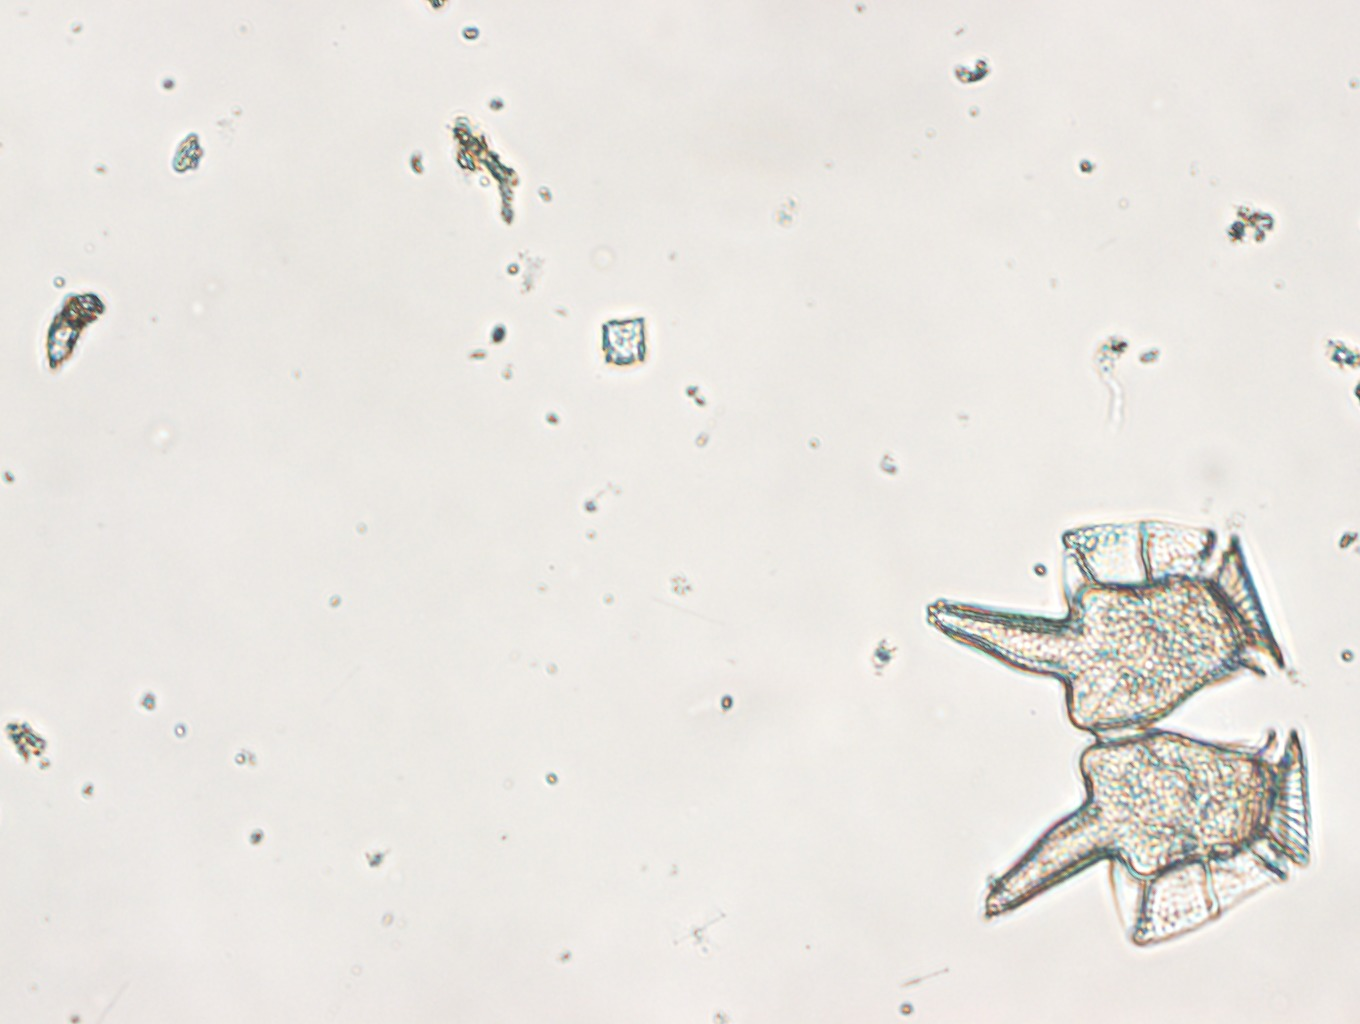dinophysis caudata: (926, 520, 1311, 947)
